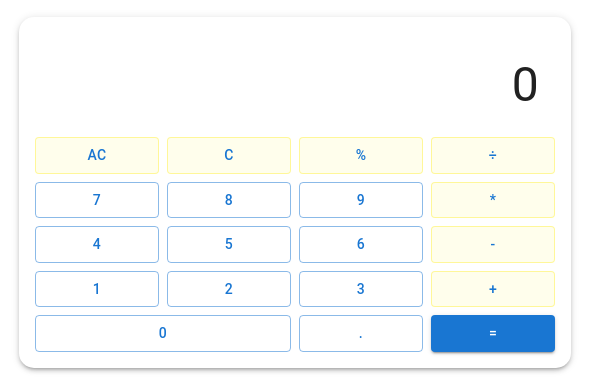
Test: Calculator App tests › Does divide correctly
Click the button "1": click(97, 289) [35,270,159,307]
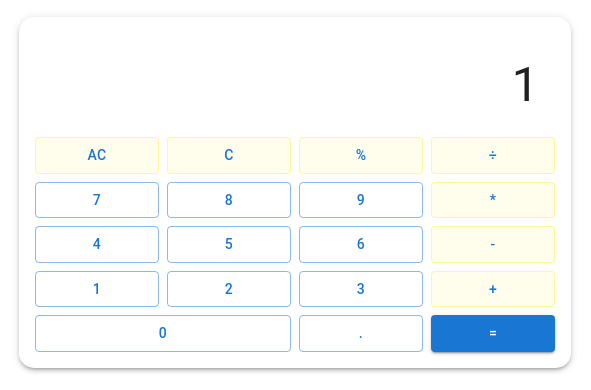
Click the button "0": click(163, 333) [35,315,291,352]
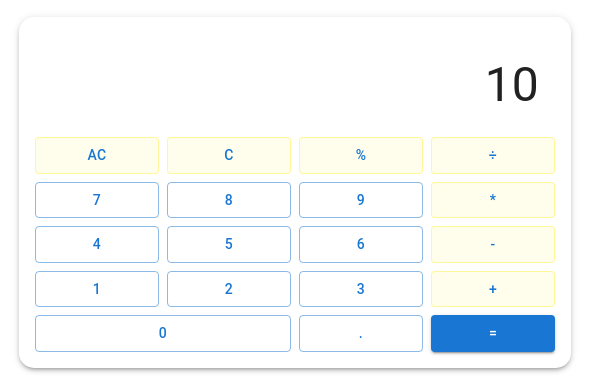
Click the button "÷": click(493, 155) [431,137,555,174]
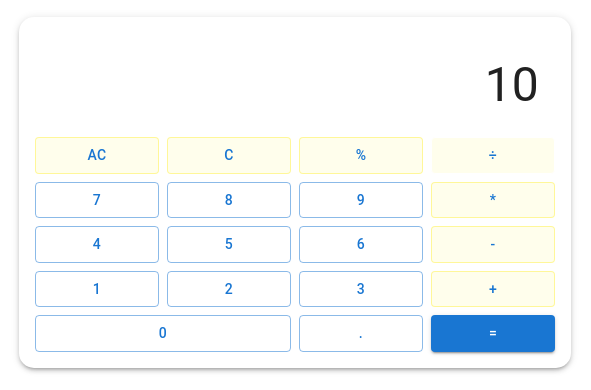
Click the button "5": click(229, 244) [167,226,291,262]
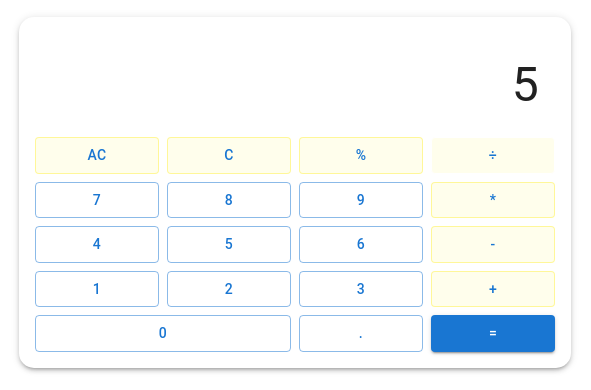
Click the button "=": click(493, 333) [431,315,555,352]
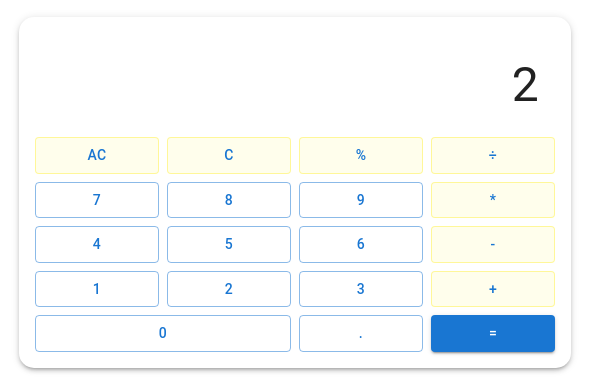
Check: the text with test id "output" reads "2", box [512,56,539,113]
